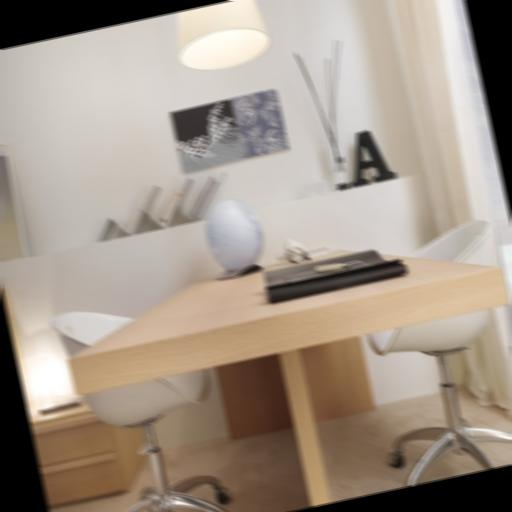chair: (37, 283, 248, 512), (341, 213, 512, 488)
desk: (55, 214, 512, 512)
wall: (0, 0, 465, 474)
